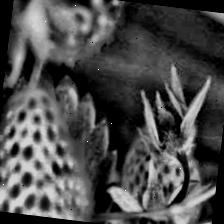Gray Mold: (131, 59, 209, 177)
